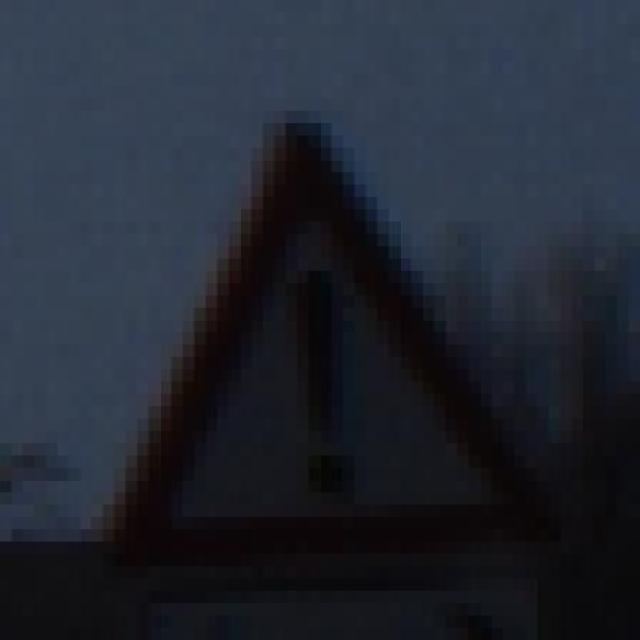Attention Please-: (57, 86, 549, 591)
